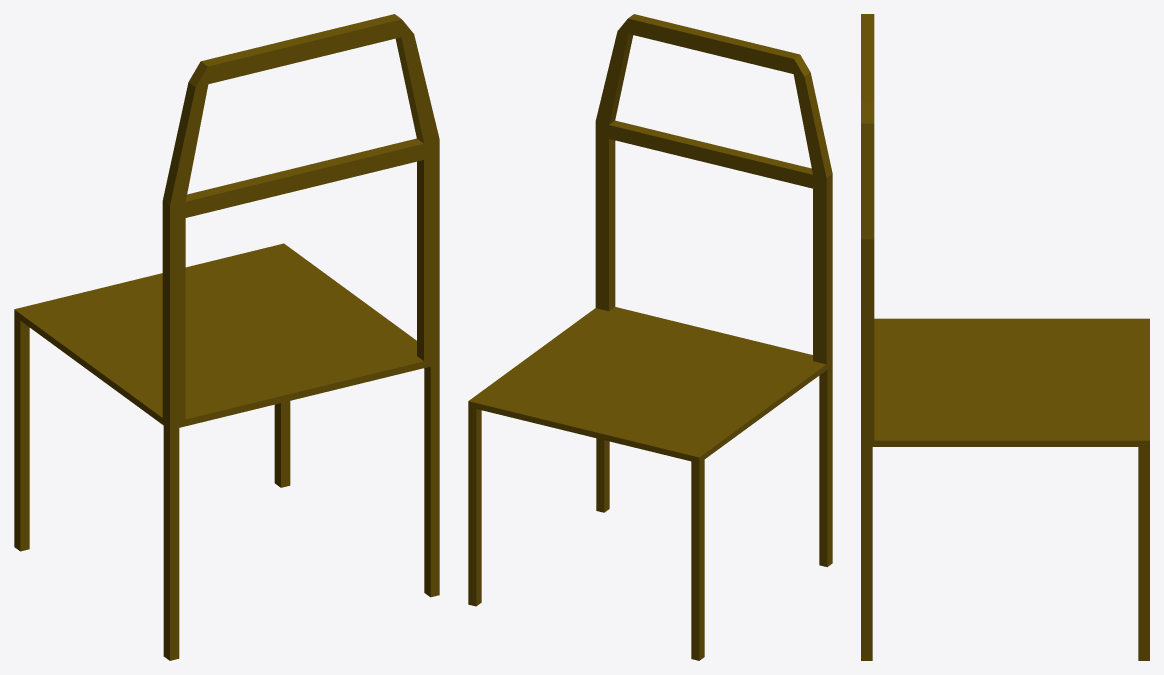
Rendered from Chair2.fbx.
The picture shows the model from 3 angles, left to right: view 1: azimuth 30°, elevation 25°; view 2: azimuth 150°, elevation 25°; view 3: azimuth 270°, elevation 25°; orthographic projection. The views are drawn at different scales.
Visible parts, largest first — view 1: pCube1; view 2: pCube1; view 3: pCube1.
Boxes of the visible parts, box(x1,y1,x2,y2) form: pCube1: box(14, 14, 439, 660); pCube1: box(468, 14, 832, 660); pCube1: box(861, 14, 1149, 660).
Bounding box in the file's own units: 22.6 × 46.83 × 22.6.
